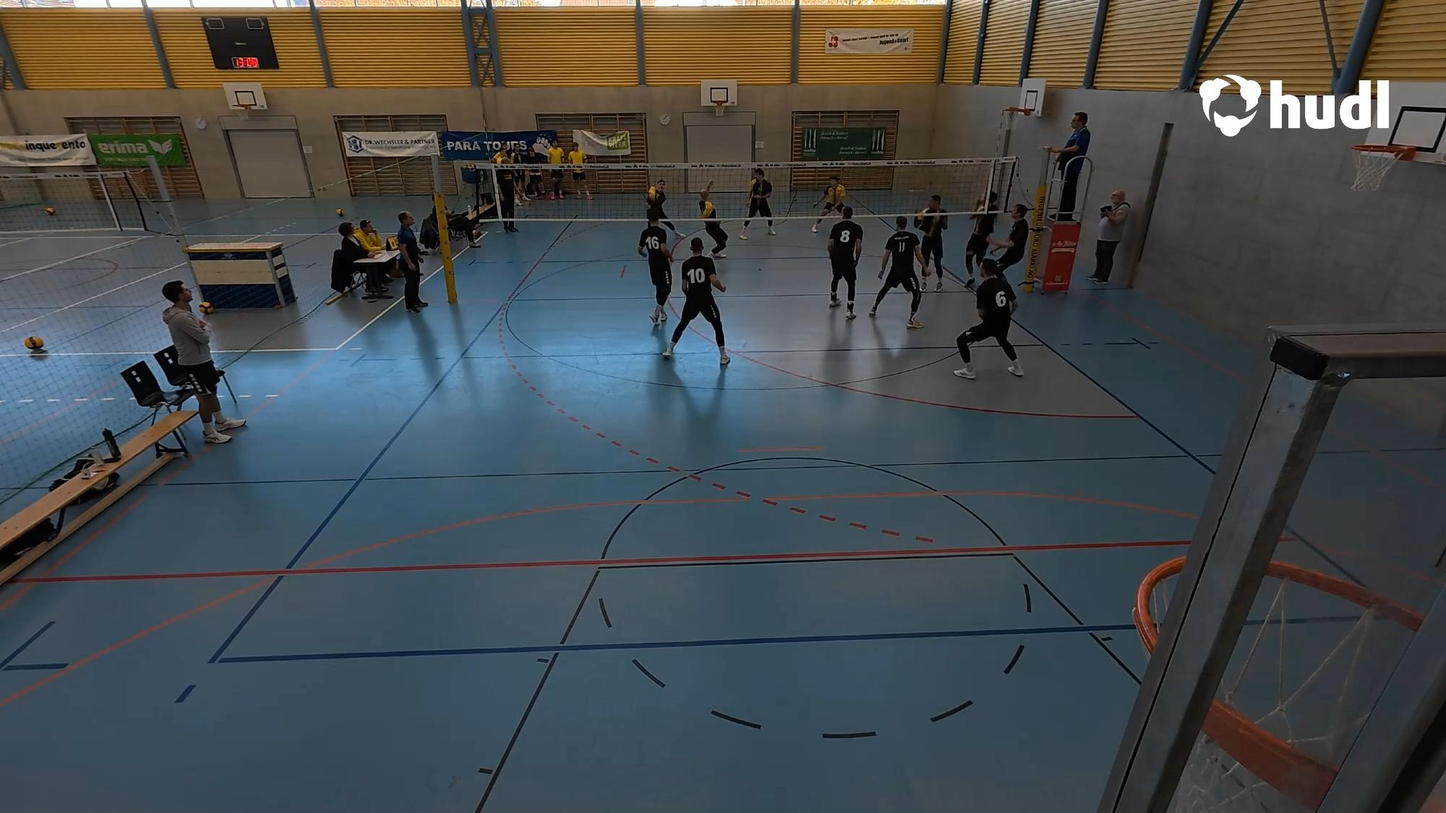Dig: (637, 169, 690, 244)
Player: (952, 263, 1024, 379), (665, 248, 729, 367), (865, 219, 923, 326), (641, 217, 680, 330), (825, 207, 865, 312), (988, 195, 1034, 284), (963, 188, 1000, 281), (917, 194, 951, 291), (696, 194, 732, 265), (745, 170, 774, 244), (816, 176, 849, 233)
ball: (646, 187, 657, 199)
